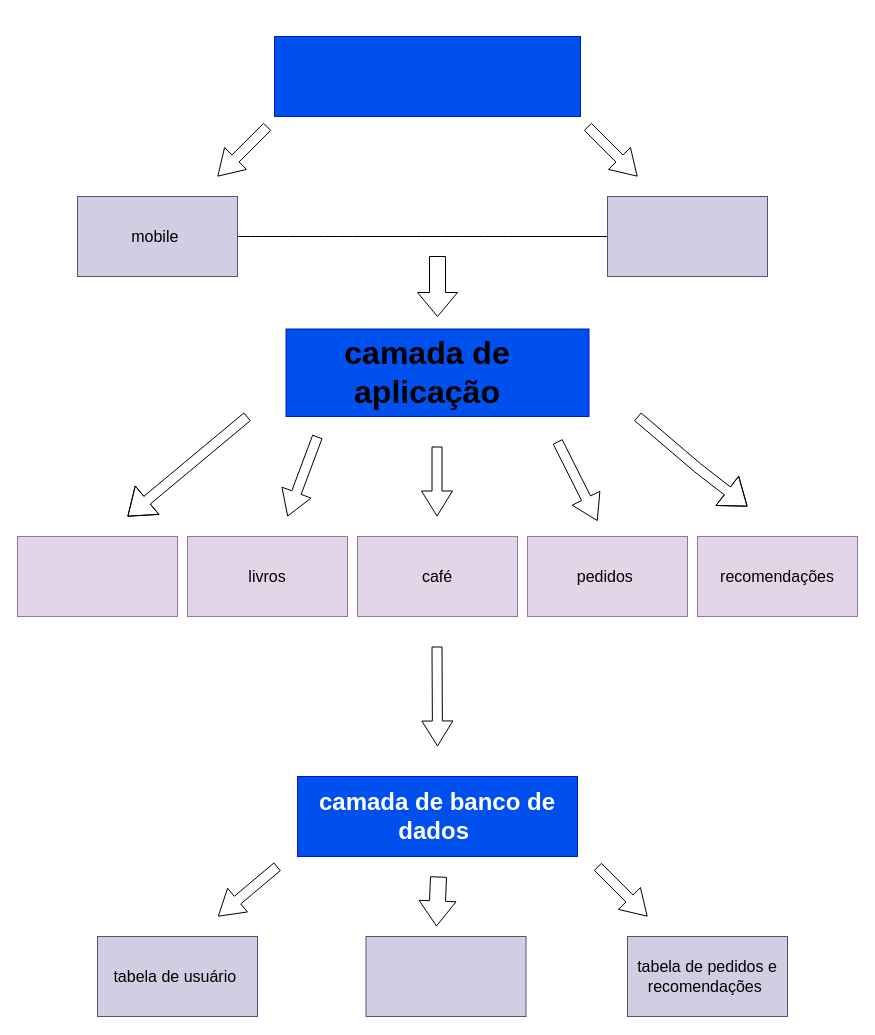
Some shapes in this 875 by 1035 pixel diagram are drawn without their labels. The shapes that lost their labels are listed below. From the top down, each one's centre as x and y in pixels, then its label:
the point at 427,76: camada de apresentação
the point at 687,236: desktop
the point at 97,576: usuário
the point at 445,976: direito de livros e café
